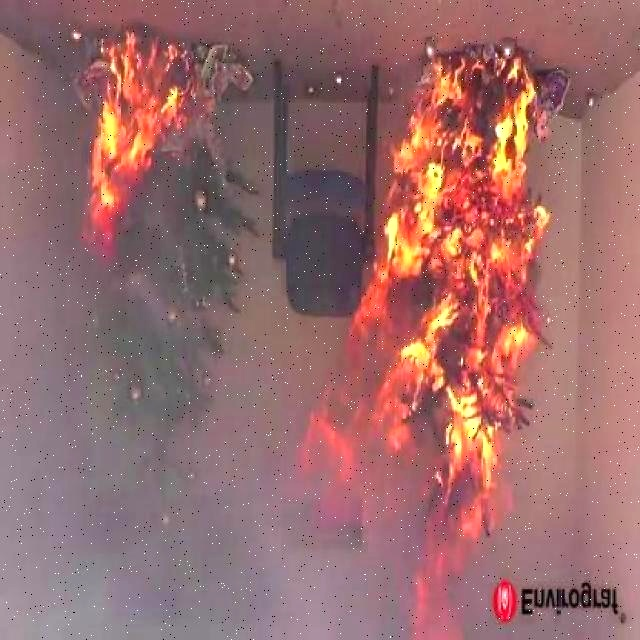fire: (297, 48, 607, 640), (75, 29, 222, 261)
